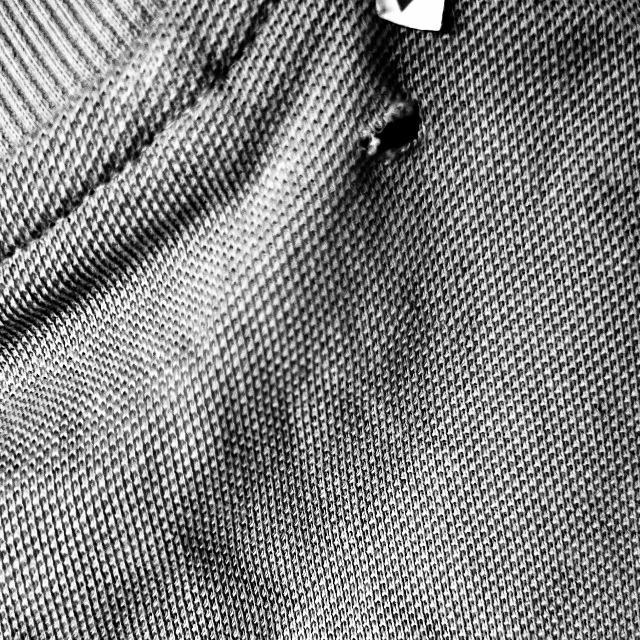Hole: (344, 83, 439, 171)
